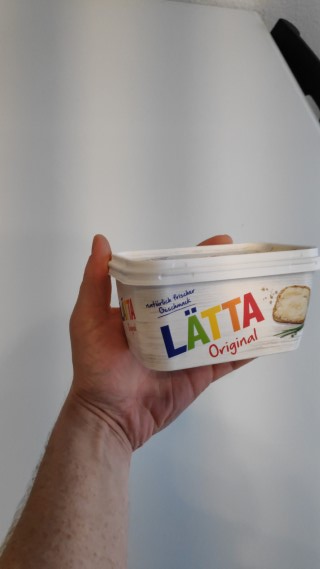laetta: (108, 241, 320, 371)
